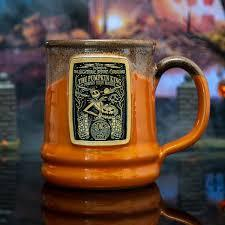Mug: (31, 19, 214, 197)
